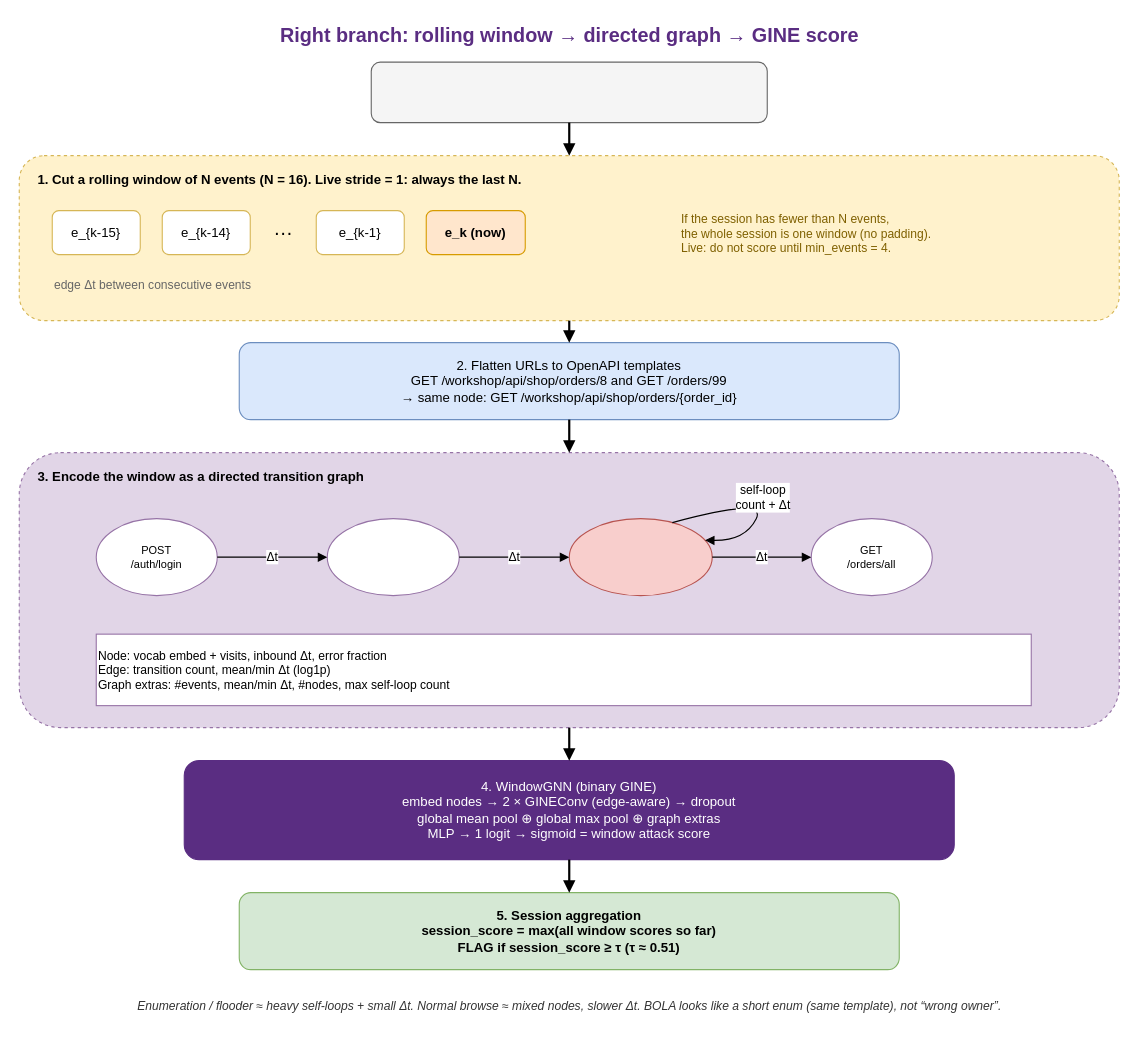
This 1139x1054 diagram has some shape labels left out. The shapes that lost their labels are listed below. From the top down, each one's box as (x1, y1, x2, y2) in pixels, then its label:
(370, 61, 767, 123): One session (session_id) ordered API events e1, e2, … ek
(326, 518, 459, 596): GET /shop/products
(568, 518, 712, 596): GET /orders/{order_id}
